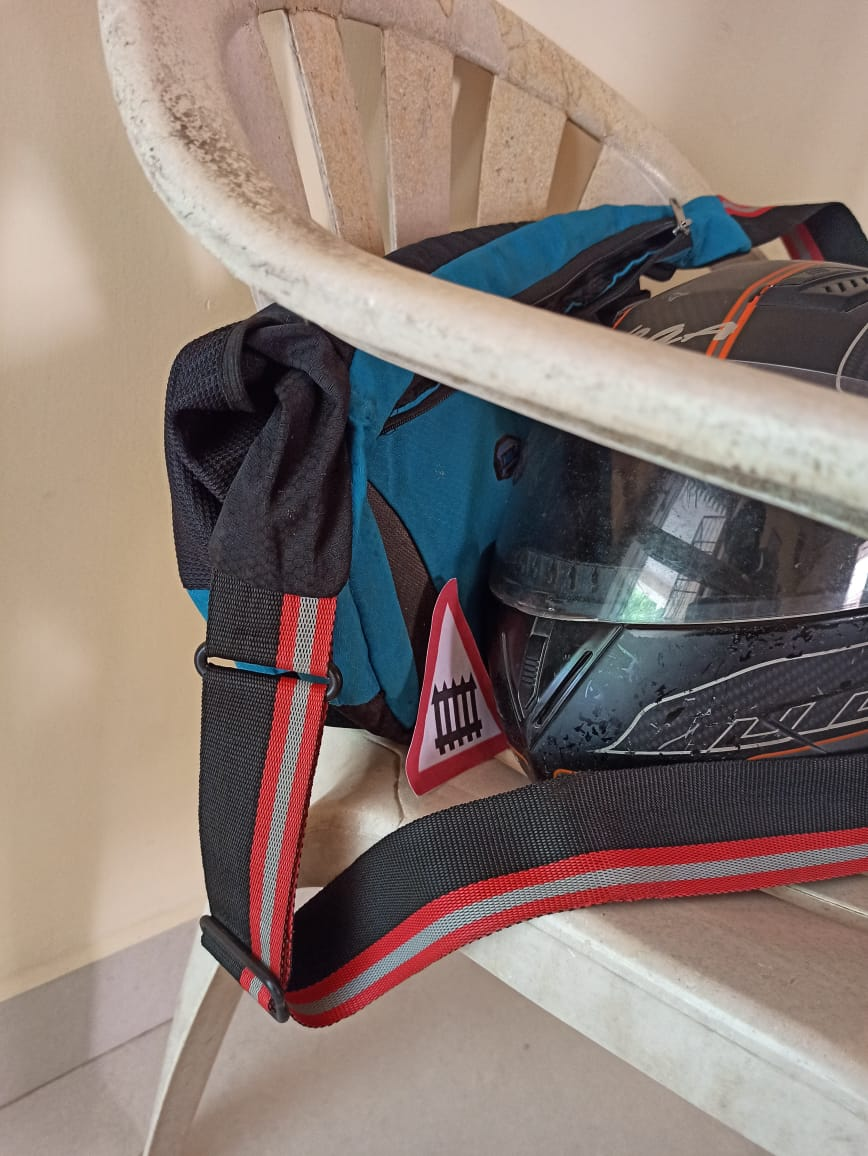GUARDED LEVEL CROSSING: (390, 554, 537, 782)
